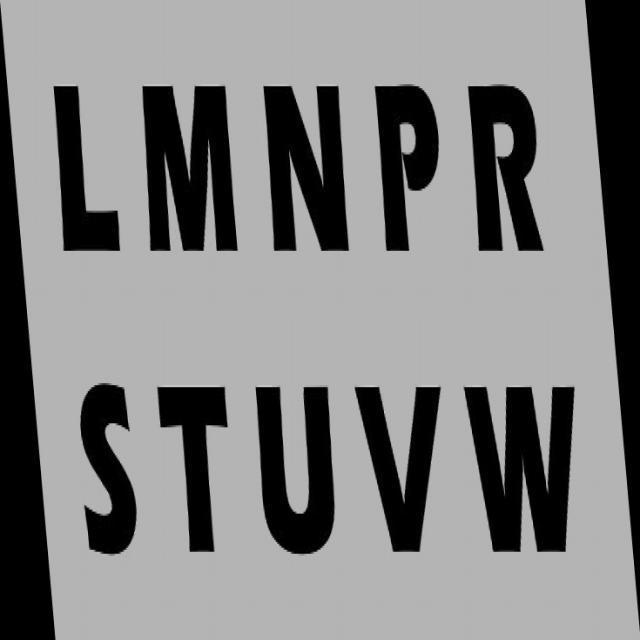M: (133, 77, 255, 259)
R: (457, 75, 551, 259)
W: (459, 377, 580, 558)
